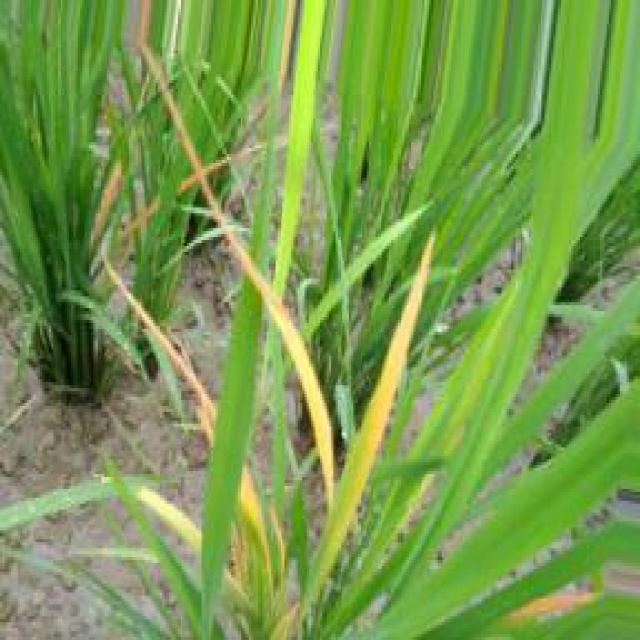Rice Tungro: (142, 45, 332, 504), (320, 235, 433, 584), (104, 260, 216, 441), (91, 162, 122, 242), (202, 155, 232, 174), (178, 172, 199, 192)
